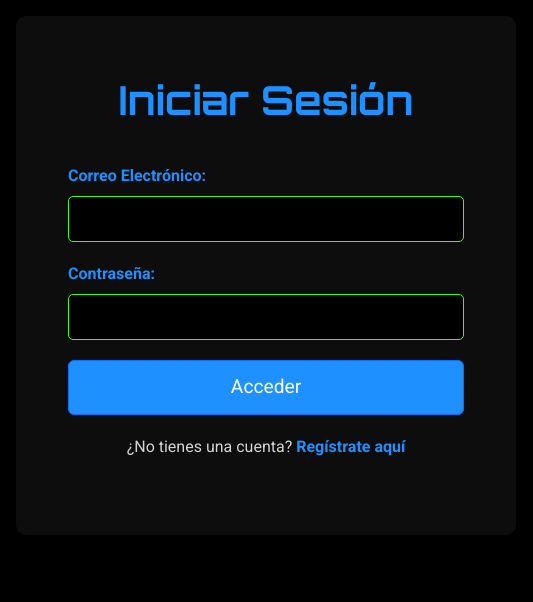
Test: LoginPage › Input Validation › shows validation errors for invalid email or password formats
Type "bademail" into the field labelled "Correo Electrónico:" at (266, 219), box [68,196,464,242]
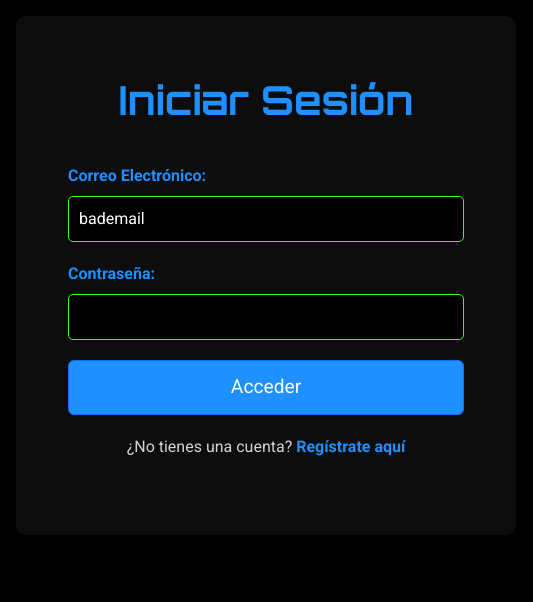
Type "1" into the password field labelled "Contraseña:" at (266, 317), box [68,294,464,340]
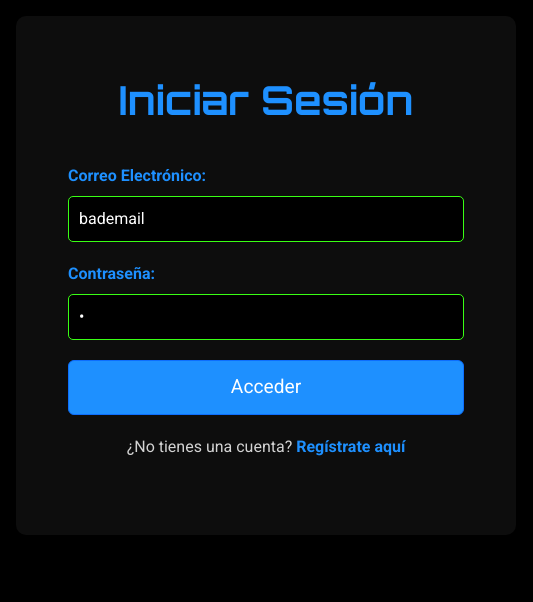
Click the button "Acceder" at (266, 387), box [68,360,464,415]
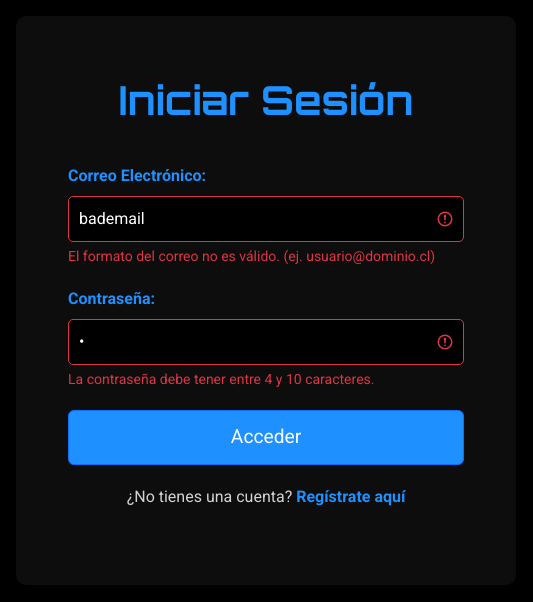
Now the text "El formato del correo no es válido. (ej. usuario@dominio.cl)" is shown, box [68,246,464,267]
Now the text "La contraseña debe tener entre 4 y 10 caracteres." is shown, box [68,371,374,387]
